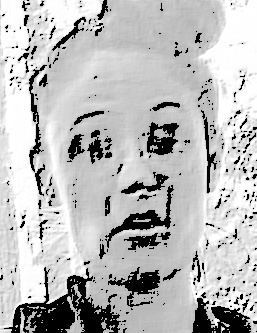nose_M_C: (117, 146, 158, 206)
